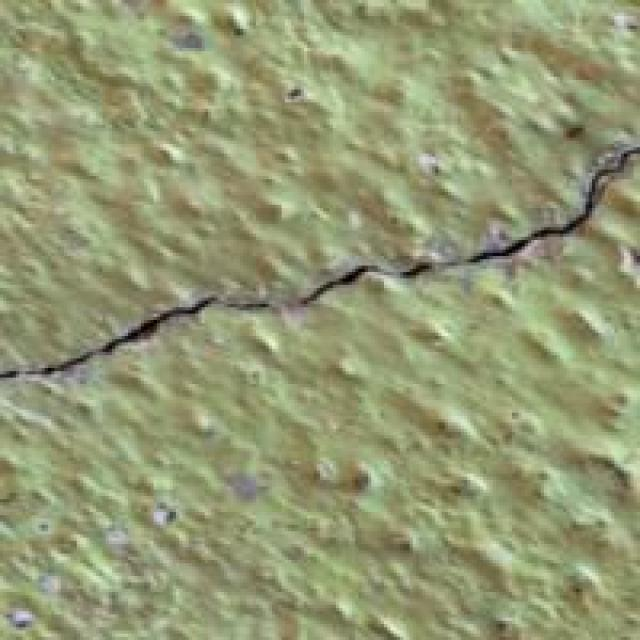SurfaceCrack: (22, 102, 640, 416)
